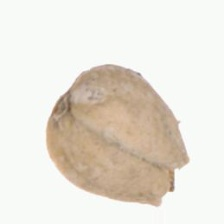L1: (43, 74, 83, 128), (155, 159, 191, 207)
L2: (46, 63, 190, 207)
